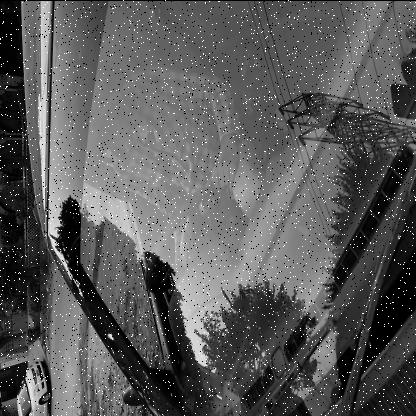no_seatbelt: (88, 80, 232, 206)
